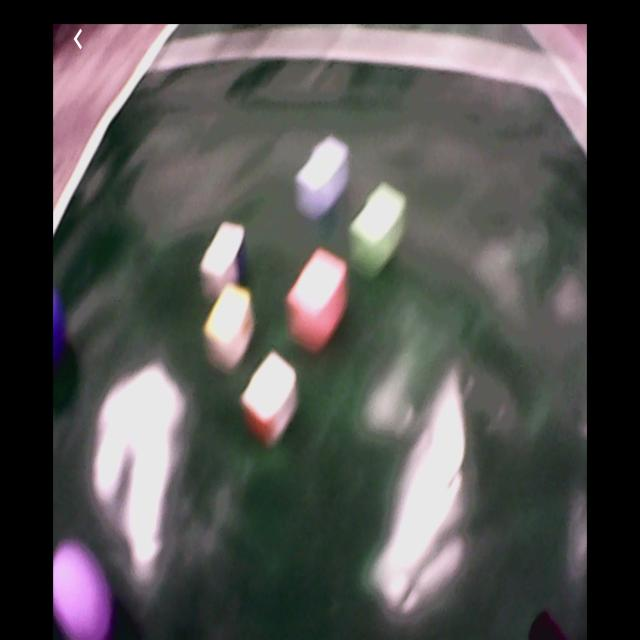ball: (54, 542, 113, 637), (54, 286, 68, 362)
